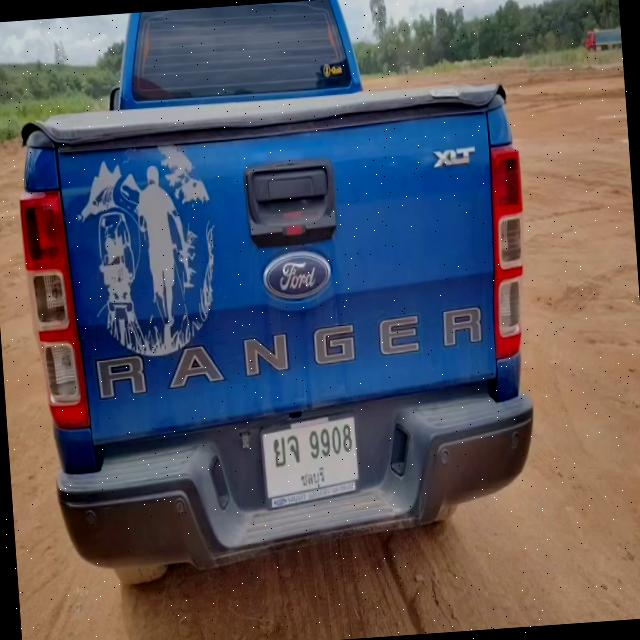Digit: (307, 424, 354, 461)
Licenseplate: (258, 416, 361, 507)
Provincename: (298, 464, 328, 490)
Thaichar: (272, 432, 301, 469)
